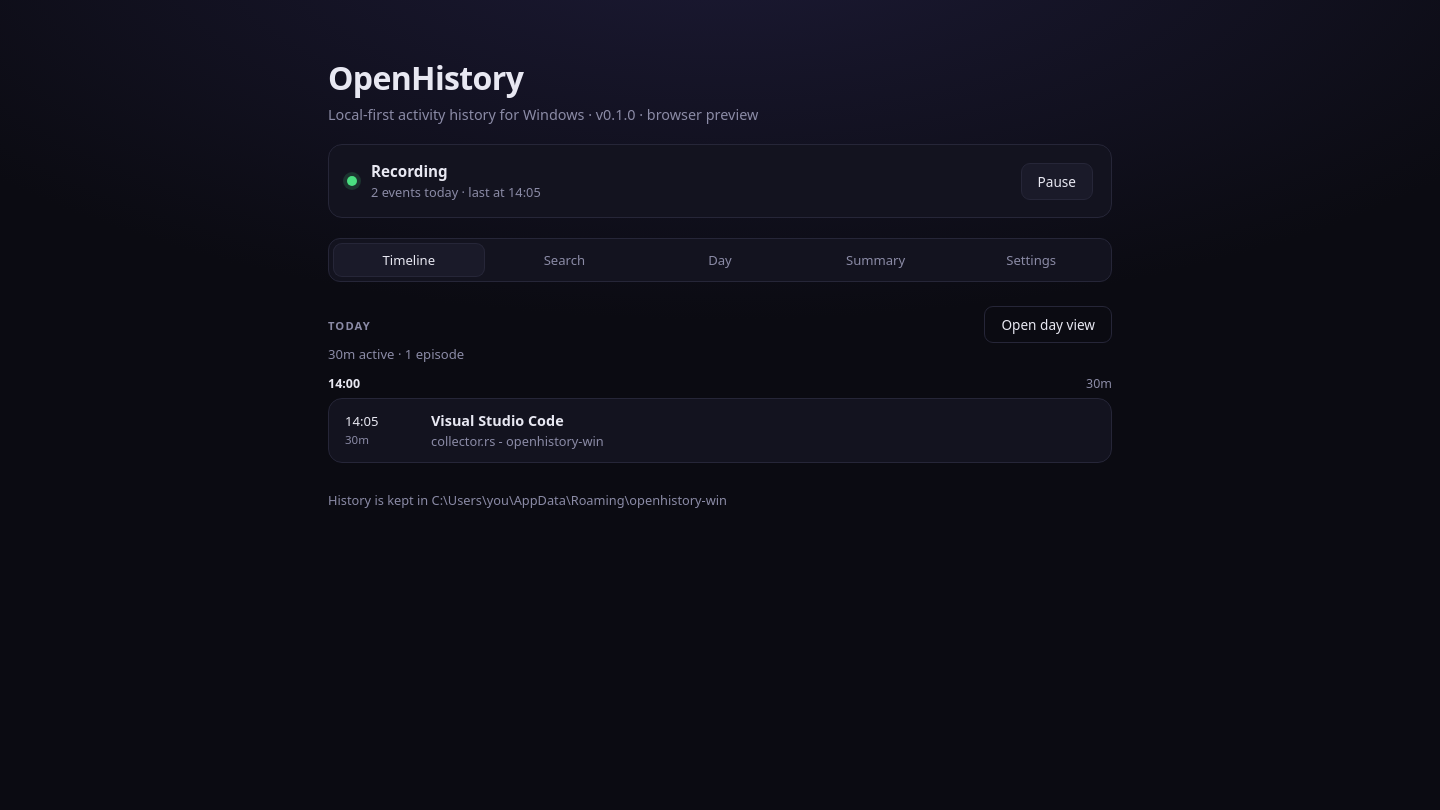
Test: App shell › opens on the timeline and moves between views
Click the button "Search".
click(564, 260)  # box [489,243,640,277]
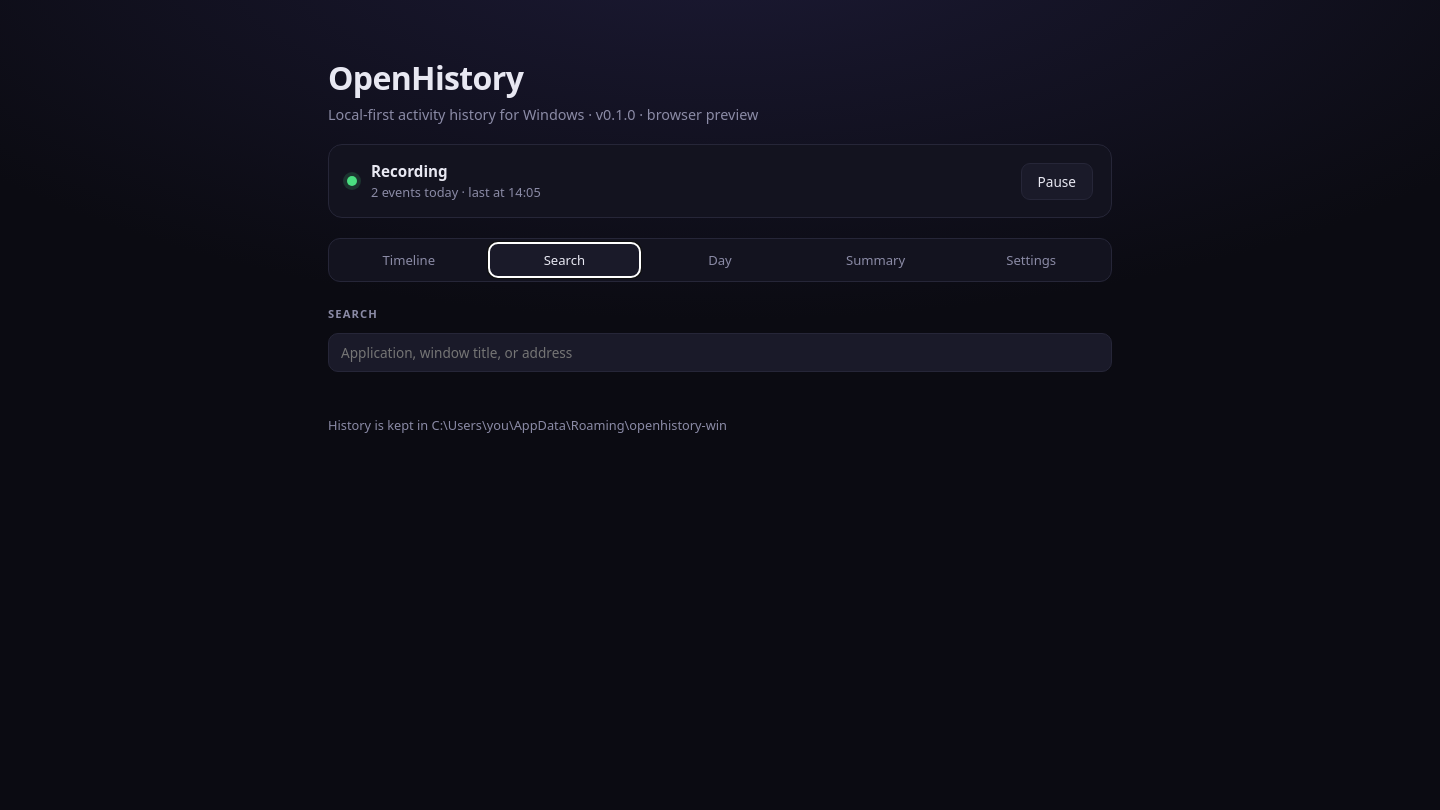
Expected: the search field named "Search history" is shown, [328,333,1112,372]
Click the button "Settings".
click(1031, 260)  # box [955,243,1107,277]
(page scrolled)
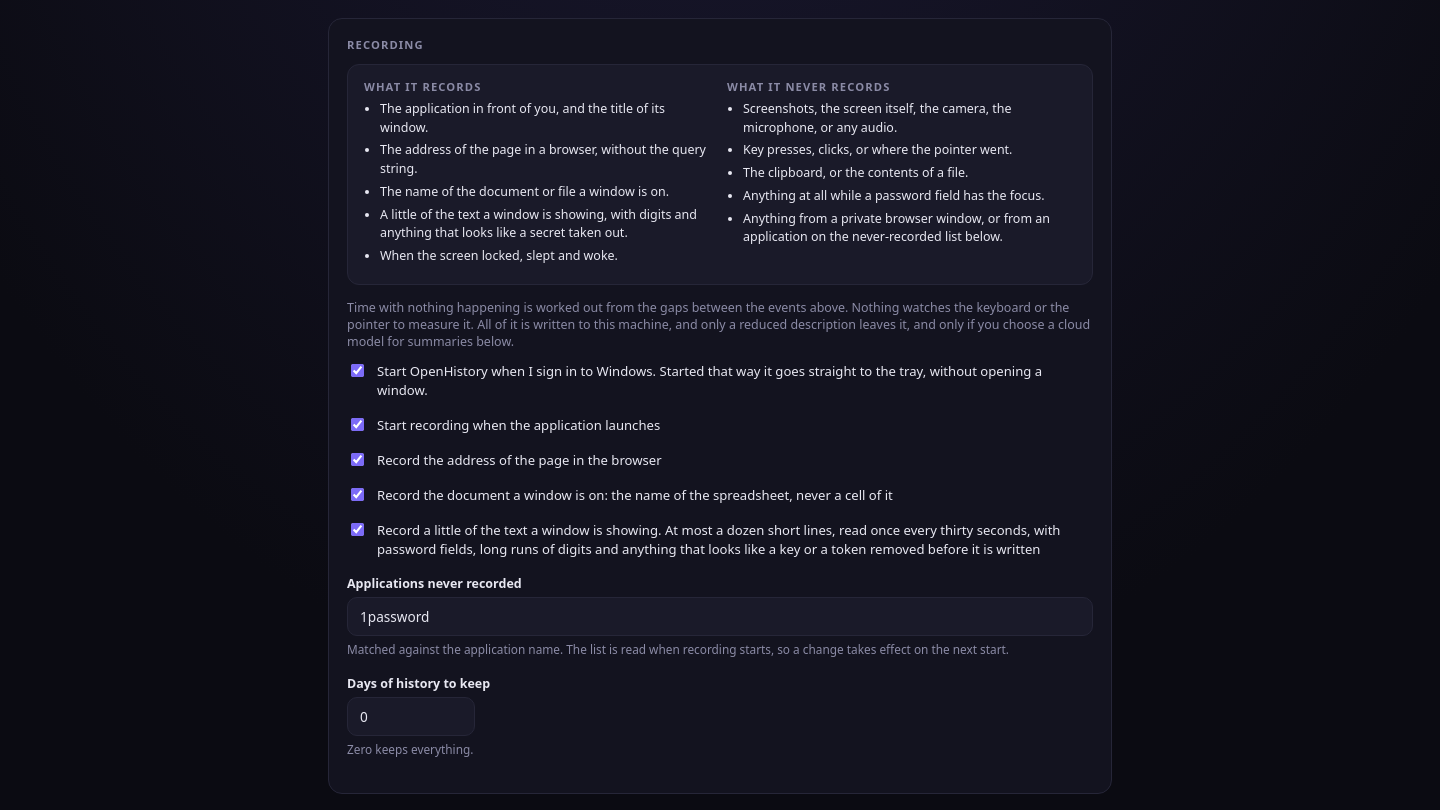
Expected: the element "Recording" is shown, [328,18,1112,794]
